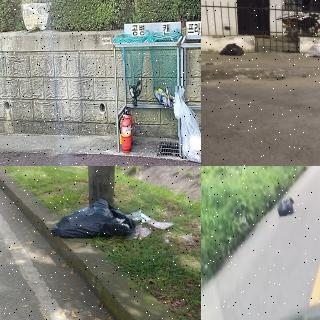Garbage: (44, 197, 141, 241), (168, 85, 201, 166), (218, 42, 246, 57), (277, 195, 296, 216), (299, 41, 320, 59)
